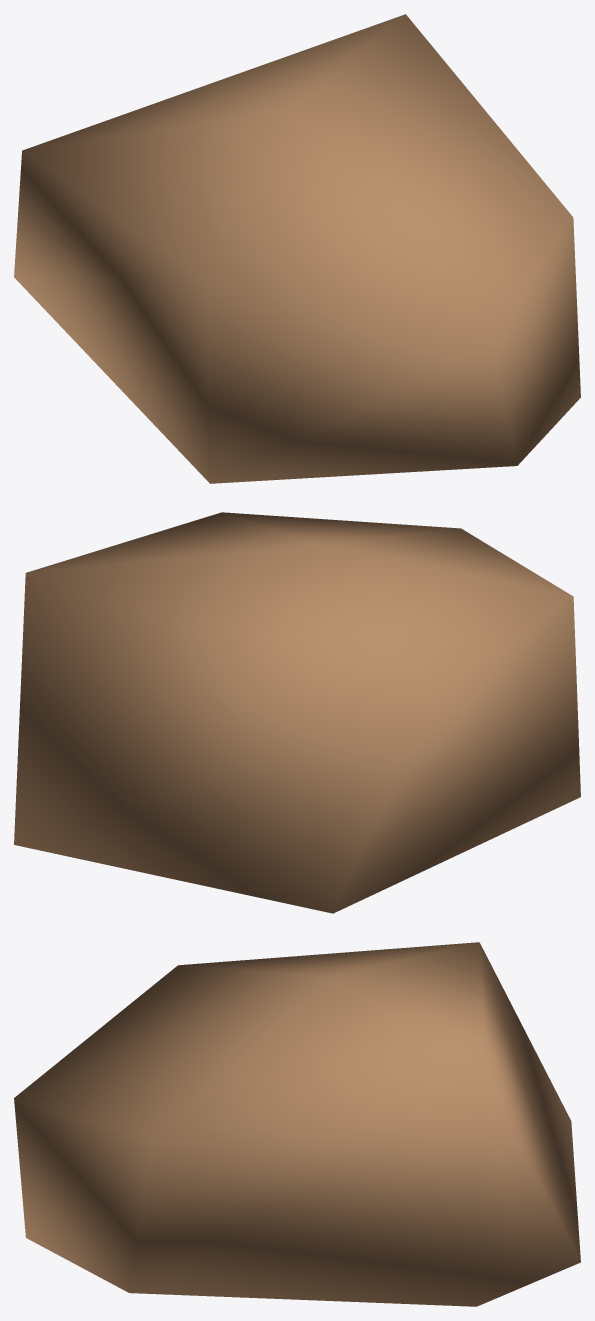
Rendered from MSH_Rock_Single_25.FBX.
3 renders of one model, top to bottom at view 1: azimuth 30°, elevation 25°; view 2: azimuth 150°, elevation 25°; view 3: azimuth 270°, elevation 25°, orthographic. The views are drawn at different scales.
Visible parts, largest first — view 1: MESH_ROCK_01; view 2: MESH_ROCK_01; view 3: MESH_ROCK_01.
Boxes of the visible parts, x1,y1,x2,y2 form: MESH_ROCK_01: (14,14,580,483); MESH_ROCK_01: (14,512,580,913); MESH_ROCK_01: (14,942,580,1306).
Bounding box in the file's own units: 2.7 × 1.76 × 3.65.
